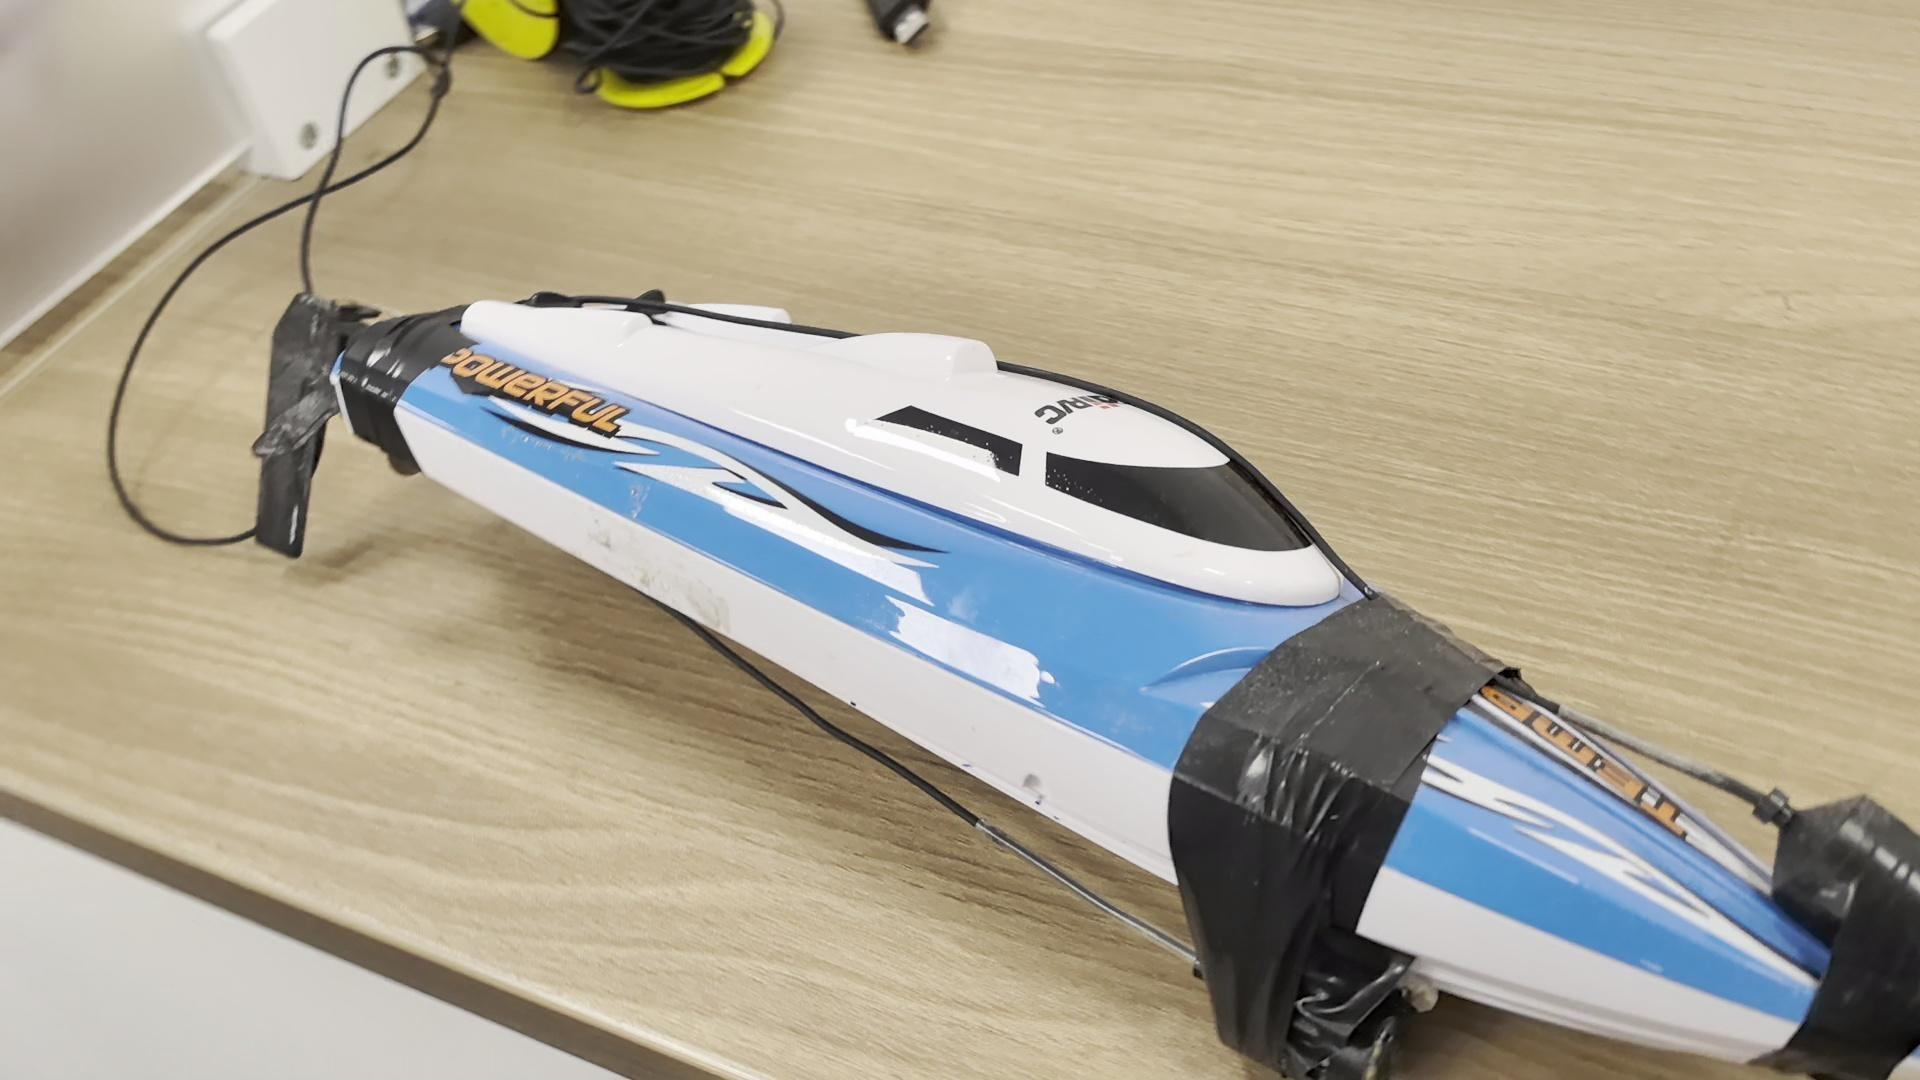Boat: (309, 280, 1905, 1072)
